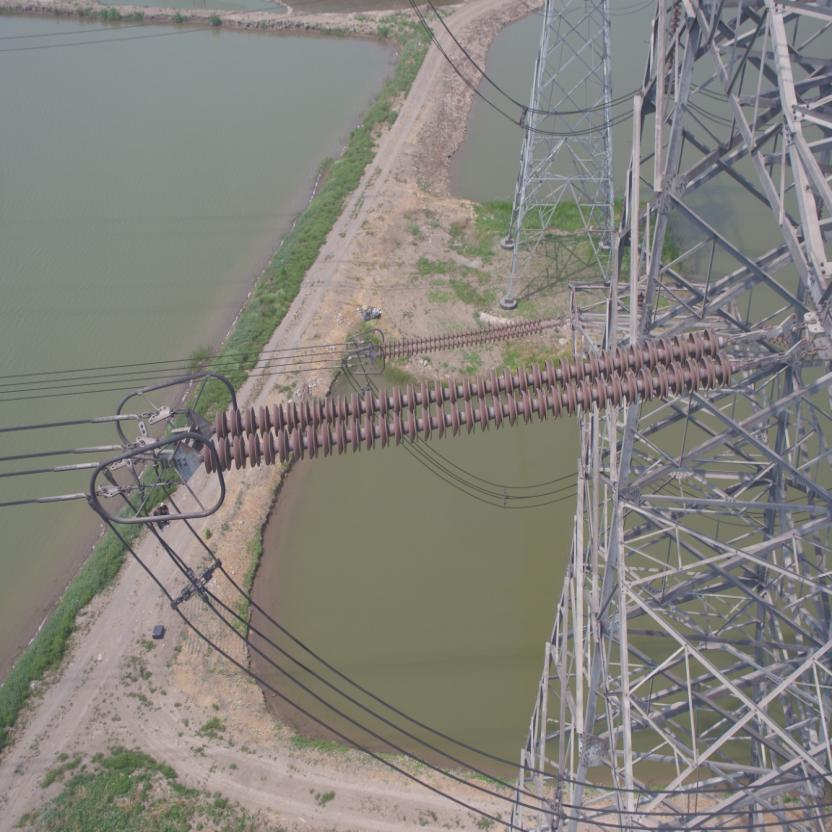insulator: (195, 318, 761, 474), (376, 317, 552, 361)
